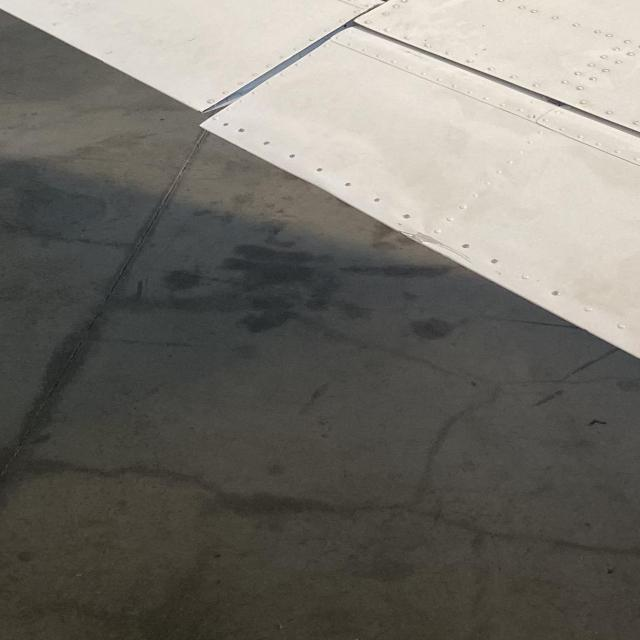Paint-off: (401, 229, 445, 256)
Scratch: (444, 245, 472, 266)
